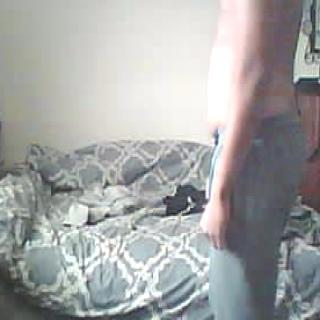Blue Sweatpants: (194, 107, 310, 320)
